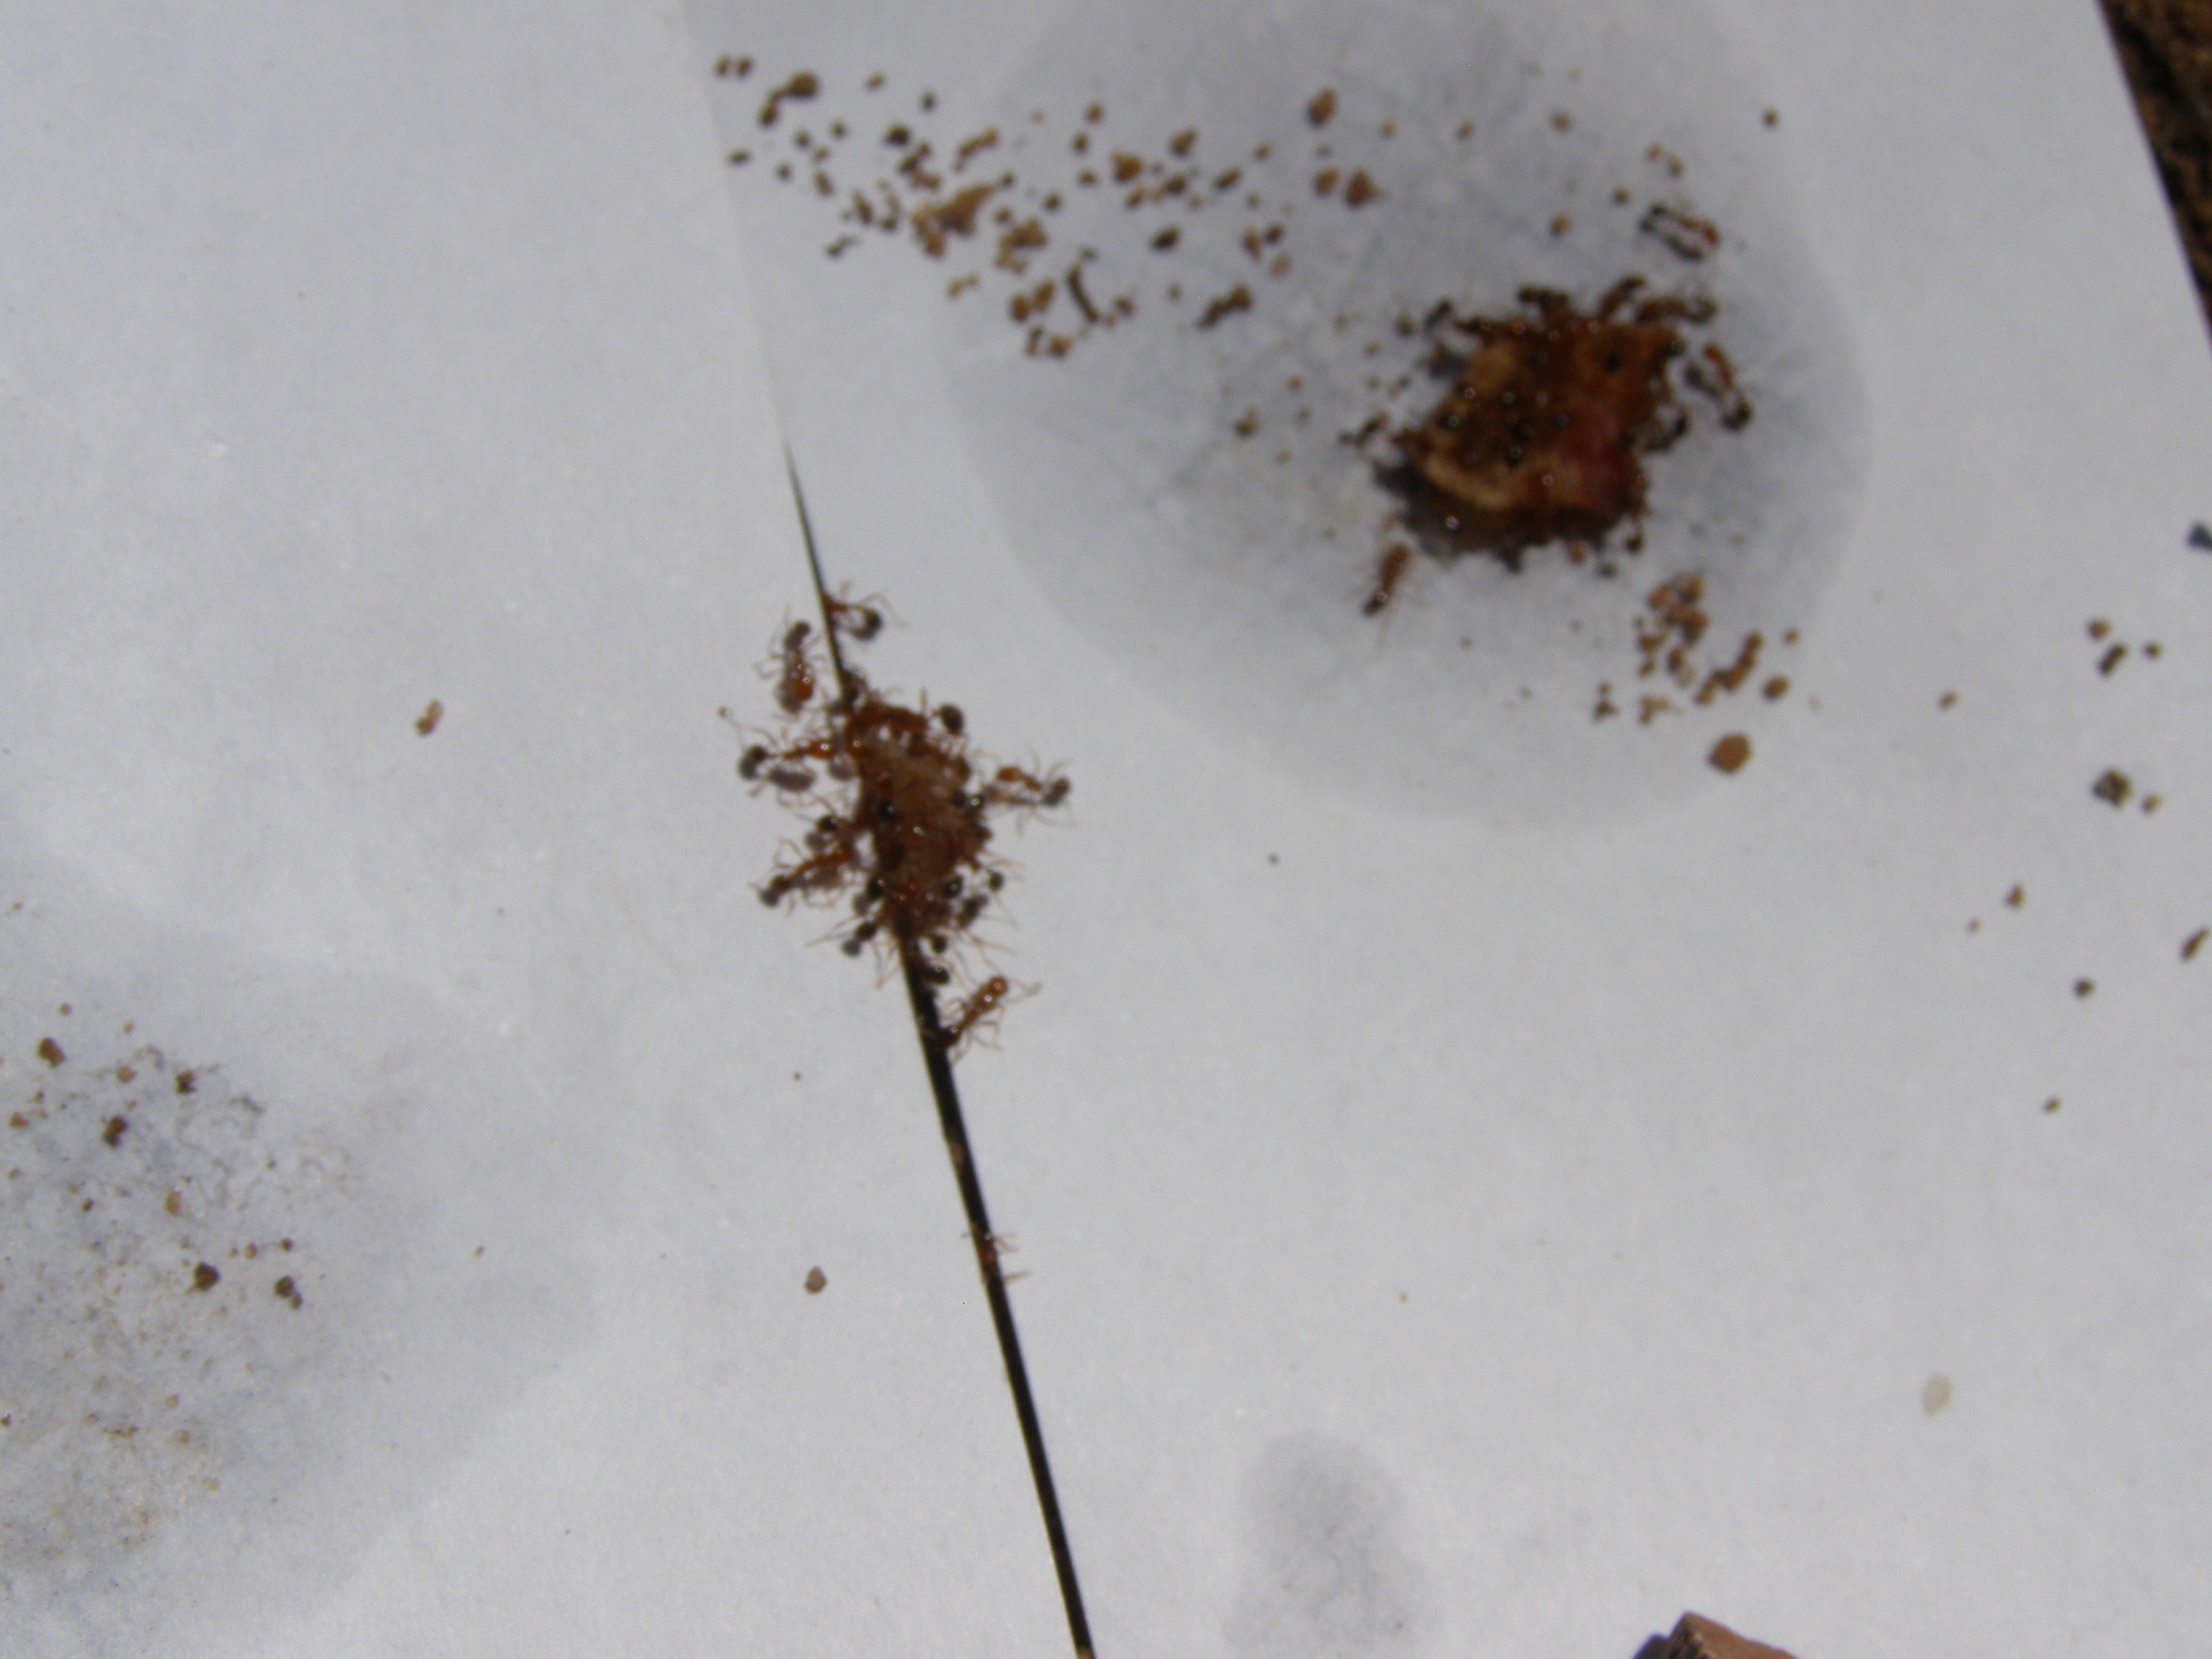Solenopsis_geminata: (934, 950, 1052, 1075)
